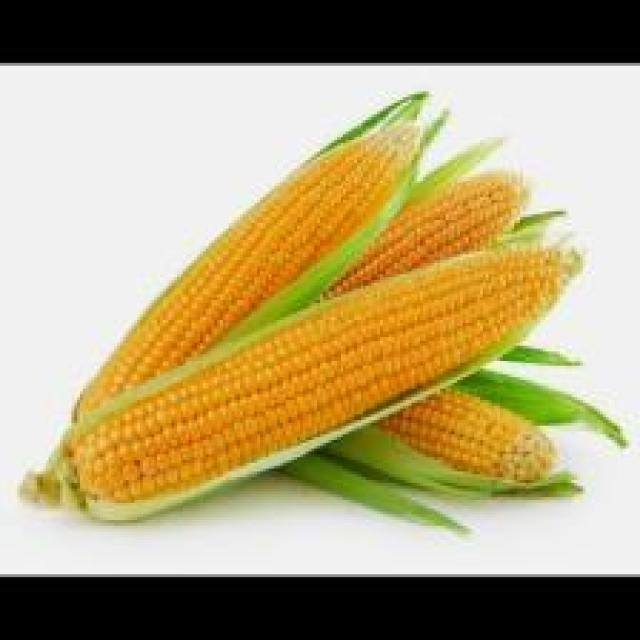corn: (31, 97, 583, 526)
